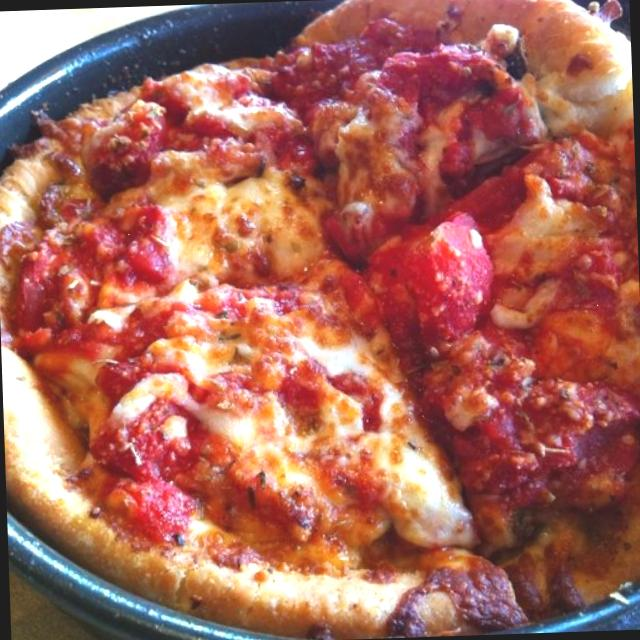pizza: (0, 0, 640, 640)
tomato: (469, 388, 629, 514), (386, 212, 512, 346), (111, 394, 202, 546), (56, 203, 185, 305), (365, 51, 519, 115), (7, 231, 85, 354), (182, 103, 320, 172), (550, 234, 624, 320), (516, 140, 602, 200)
